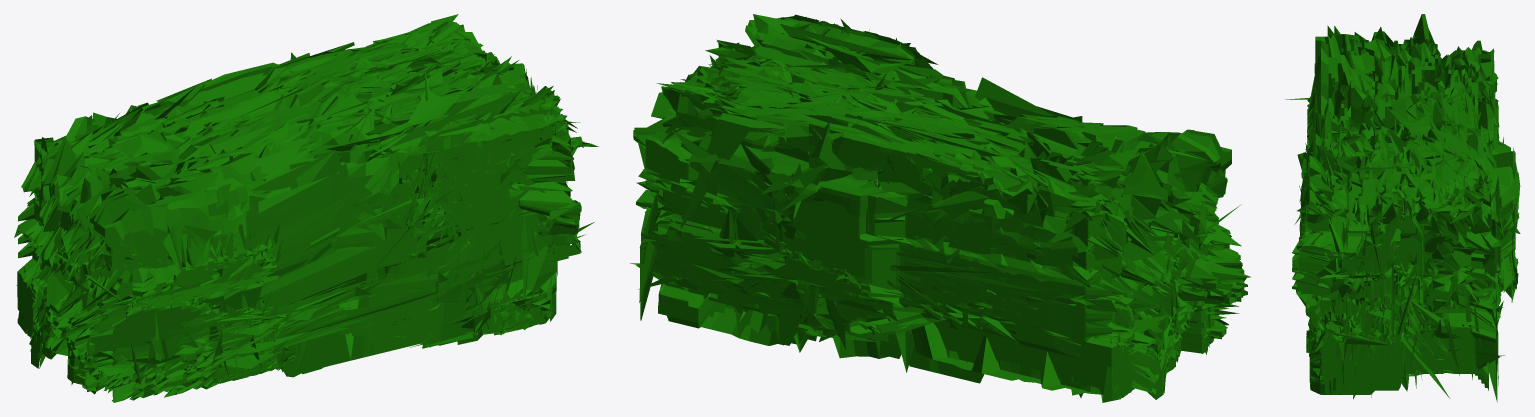
3 views of the same model, side by side, from view 1: azimuth 30°, elevation 25°; view 2: azimuth 150°, elevation 25°; view 3: azimuth 270°, elevation 25° (orthographic). The views are drawn at different scales.
Visible parts, largest first — view 1: Cube; view 2: Cube; view 3: Cube.
Part boxes in pixels (left/top/right/bottom): Cube: left=14, top=14, right=598, bottom=402; Cube: left=630, top=14, right=1251, bottom=402; Cube: left=1285, top=14, right=1520, bottom=402.
Size of the model in its own units: 821 by 361 by 378.
